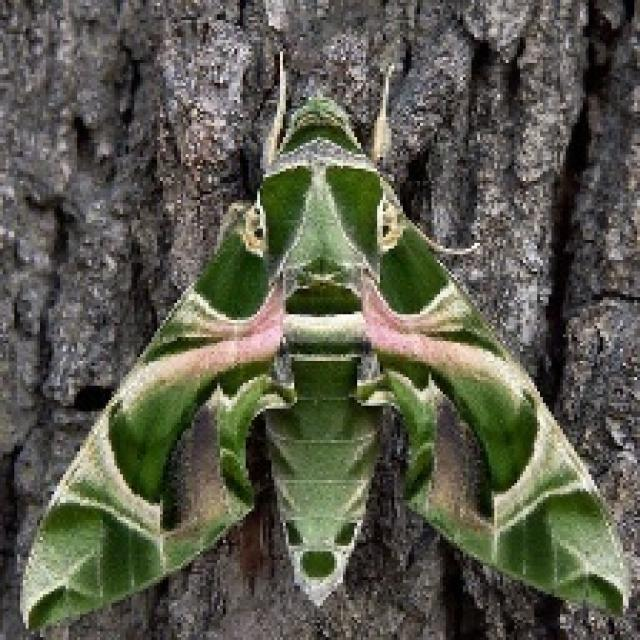butterfly: (17, 49, 632, 632)
